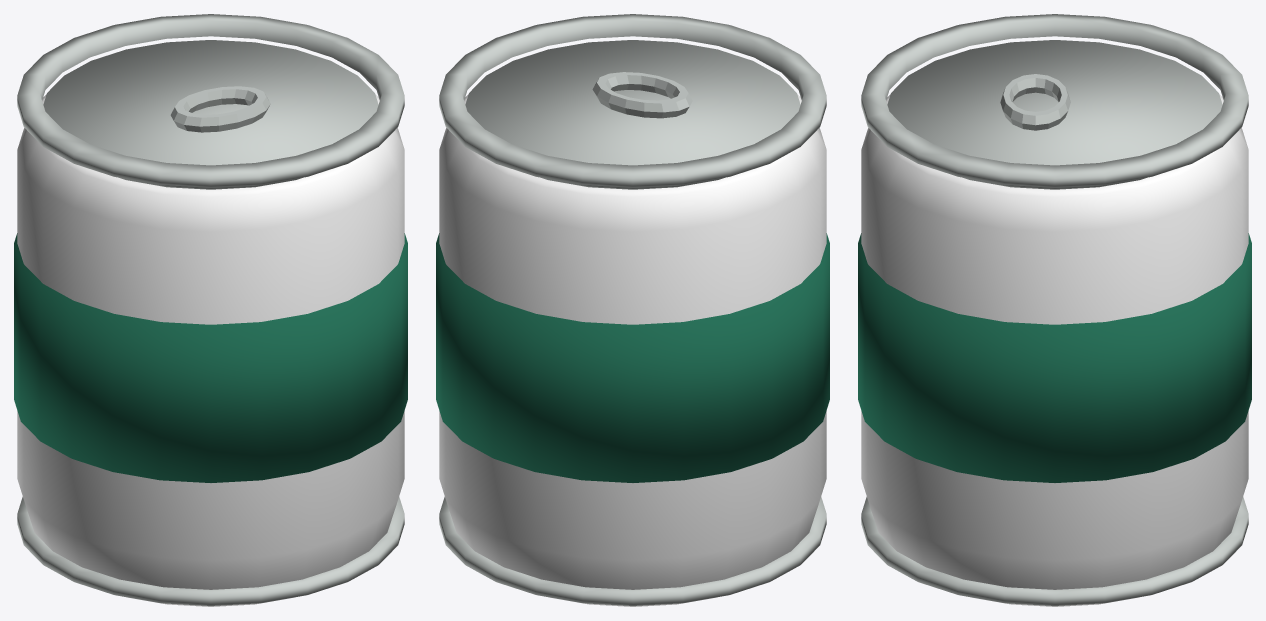
File: can.glb
3 renders of one model, left to right at view 1: azimuth 30°, elevation 25°; view 2: azimuth 150°, elevation 25°; view 3: azimuth 270°, elevation 25°, orthographic.
Parts seen in each view (by area): view 1: body, band, cap; view 2: body, band, cap; view 3: body, band, cap.
Part boxes in pixels (x1,y1,x2,y2): body: (17, 94, 404, 606); band: (14, 233, 407, 482); cap: (17, 14, 404, 605); body: (439, 94, 826, 606); band: (436, 233, 829, 482); cap: (439, 14, 826, 605); body: (861, 94, 1248, 606); band: (858, 233, 1251, 482); cap: (861, 14, 1248, 605).
Size of the model in its own units: 0.5 by 0.62 by 0.5.
